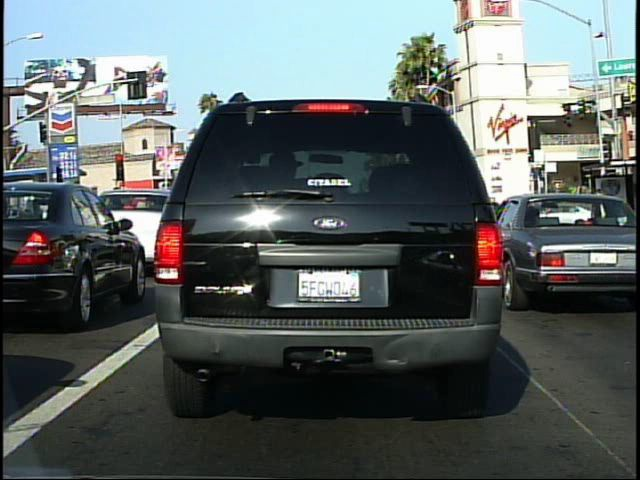person: (589, 184, 613, 250)
